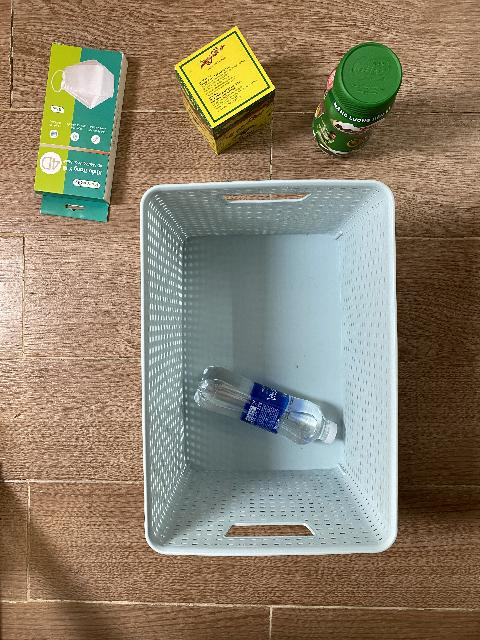4D_medical_face-mask: (33, 43, 128, 223)
aquafina: (193, 366, 337, 446)
cart: (140, 179, 399, 559)
luong_kho: (174, 26, 275, 155)
milo: (313, 42, 403, 156)
